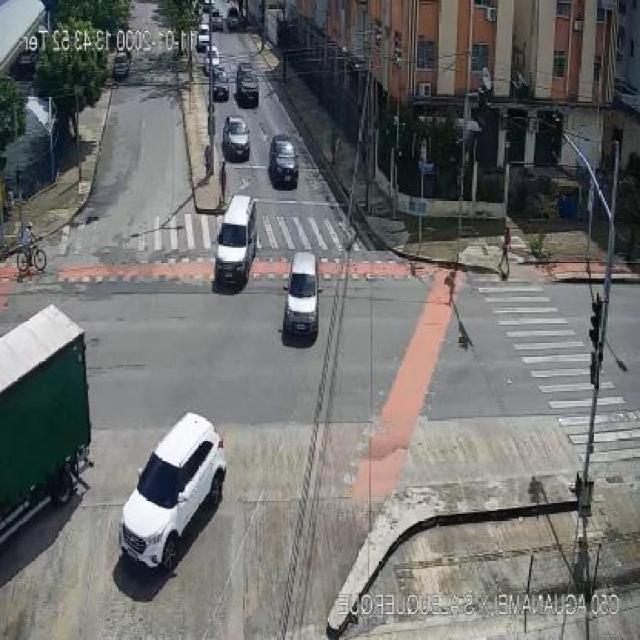Car: (122, 411, 227, 571), (279, 250, 326, 333), (268, 136, 300, 186), (222, 116, 251, 156), (210, 68, 230, 100), (238, 74, 260, 101), (112, 53, 131, 79), (205, 46, 222, 72), (195, 24, 212, 49), (236, 60, 253, 76)
Cycle: (13, 237, 49, 274)
Truck: (0, 304, 90, 548)
Van: (214, 194, 260, 283)
